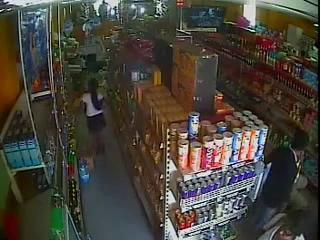Normal: (80, 78, 108, 168)
